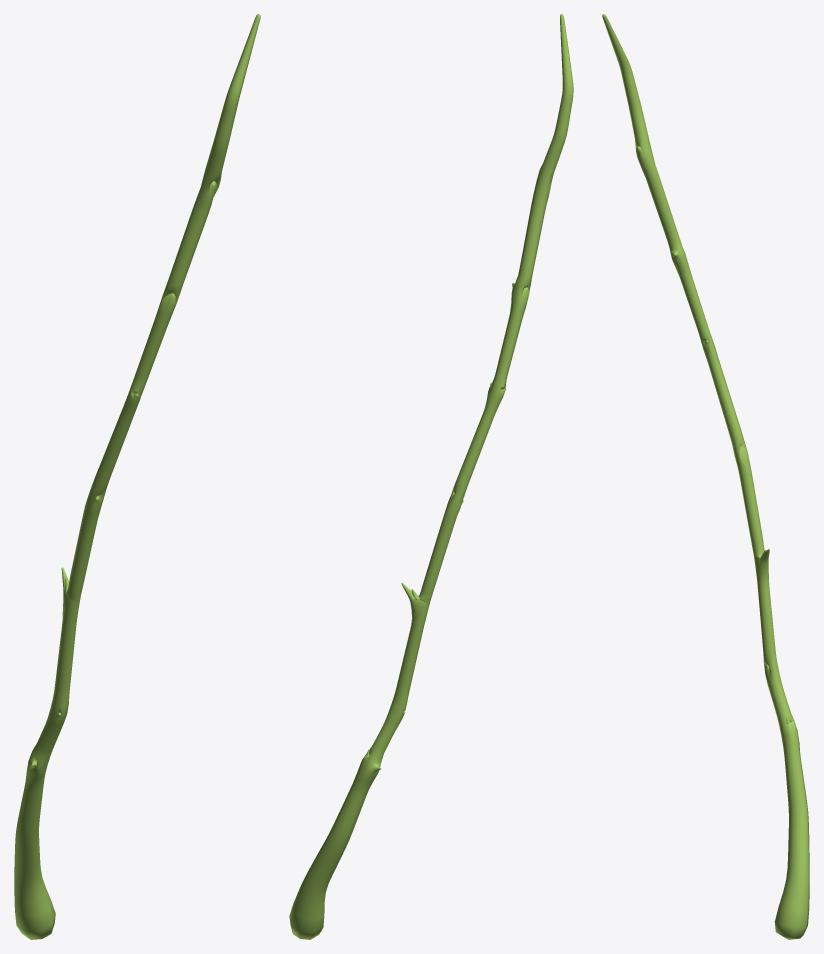
Rendered from TtulangDaunSejajarr.fbx.
3 views of the same model, side by side, from view 1: azimuth 90°, elevation 25°; view 2: azimuth 150°, elevation 25°; view 3: azimuth 270°, elevation 25° (orthographic). The views are drawn at different scales.
Visible parts, largest first — view 1: Cube.001; view 2: Cube.001; view 3: Cube.001.
Part boxes in pixels (<box>): Cube.001: <box>14,14,260,939</box>; Cube.001: <box>289,14,573,939</box>; Cube.001: <box>602,14,809,939</box>.
Bounding box in the file's own units: 320 × 1393 × 308.
